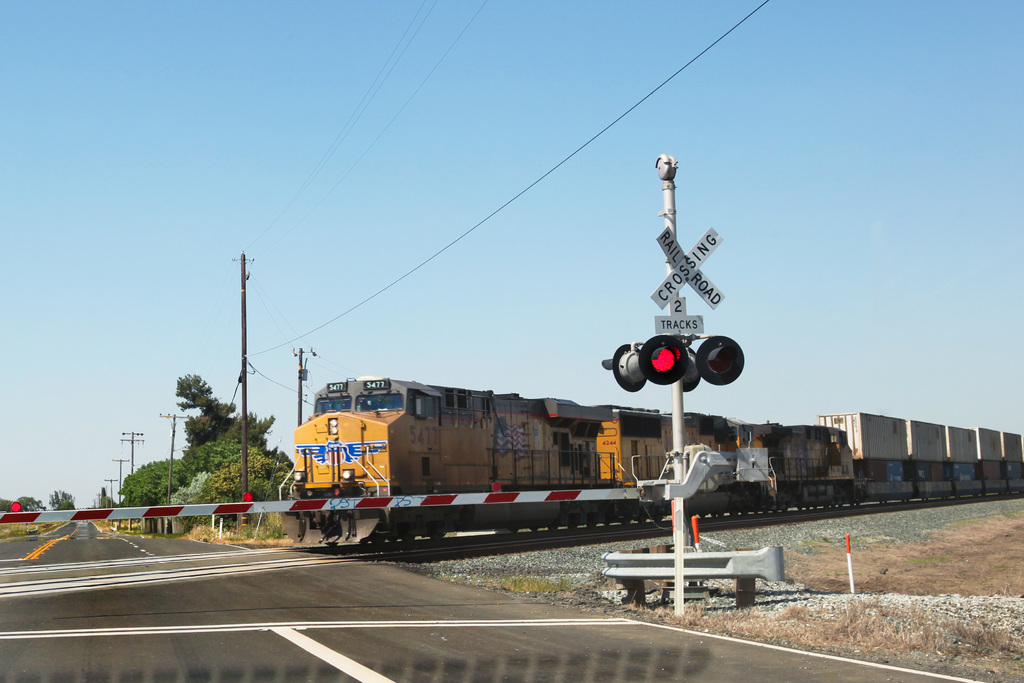red_light: (650, 347, 679, 375)
